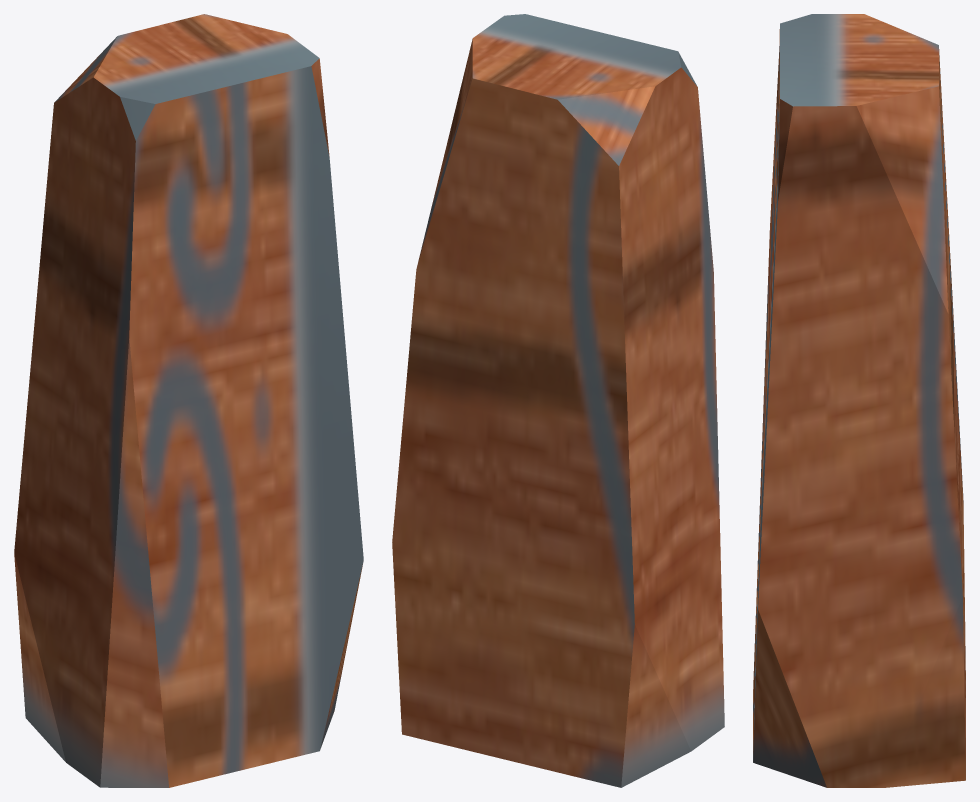
The model's file is Kamen_normal10.fbx.
3 renders of one model, left to right at view 1: azimuth 30°, elevation 25°; view 2: azimuth 150°, elevation 25°; view 3: azimuth 270°, elevation 25°, orthographic. The views are drawn at different scales.
Parts seen in each view (by area): view 1: Kamen_normal10; view 2: Kamen_normal10; view 3: Kamen_normal10.
Part boxes in pixels (x1,y1,x2,y2): Kamen_normal10: (14, 14, 363, 787); Kamen_normal10: (392, 14, 724, 787); Kamen_normal10: (753, 14, 965, 787).
Size of the model in its own units: 7.77 by 19.68 by 5.69.
